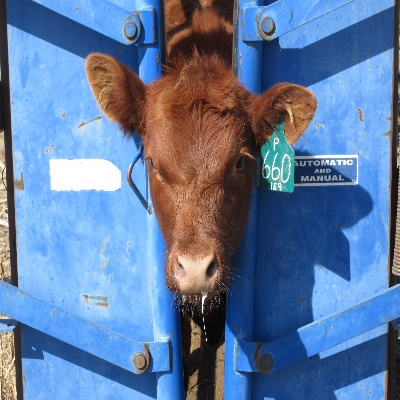fidget_spinner: (166, 246, 226, 298)
